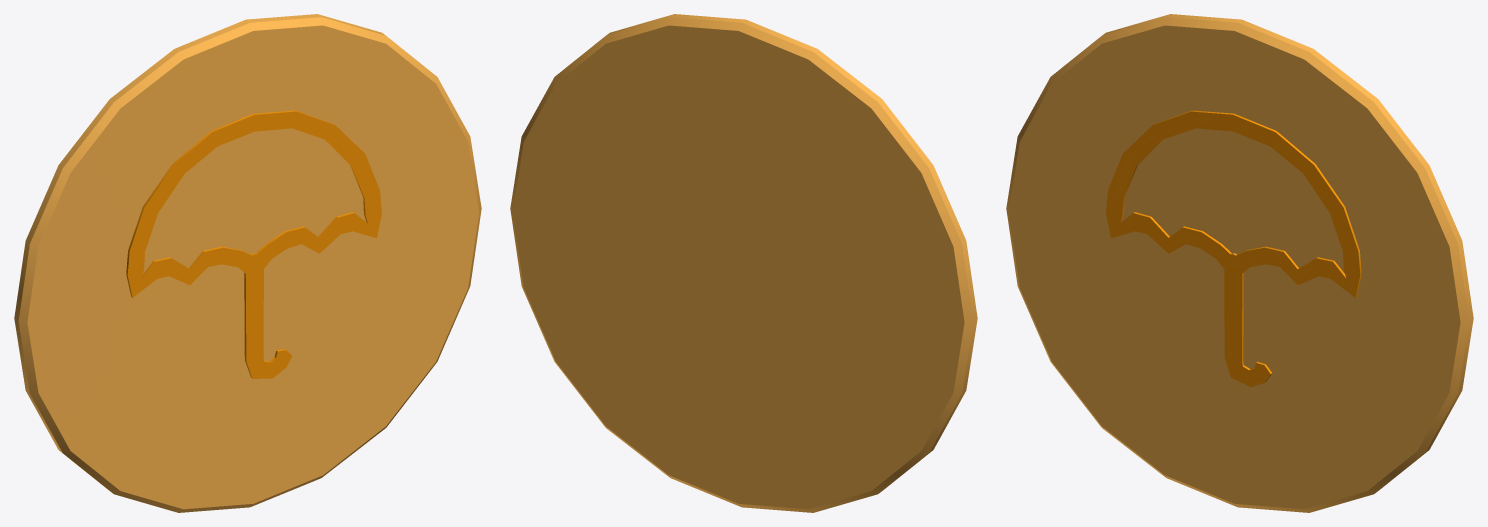
File: candy.fbx
3 renders of one model, left to right at view 1: azimuth 30°, elevation 25°; view 2: azimuth 150°, elevation 25°; view 3: azimuth 330°, elevation 25°, orthographic.
Parts seen in each view (by area): view 1: candy; view 2: candy; view 3: candy.
Part boxes in pixels (box(x1,y1,x2,y2)): candy: box(14, 14, 481, 512); candy: box(510, 14, 977, 512); candy: box(1006, 14, 1473, 512).
Bounding box in the file's own units: 52.43 × 52.43 × 2.39.
